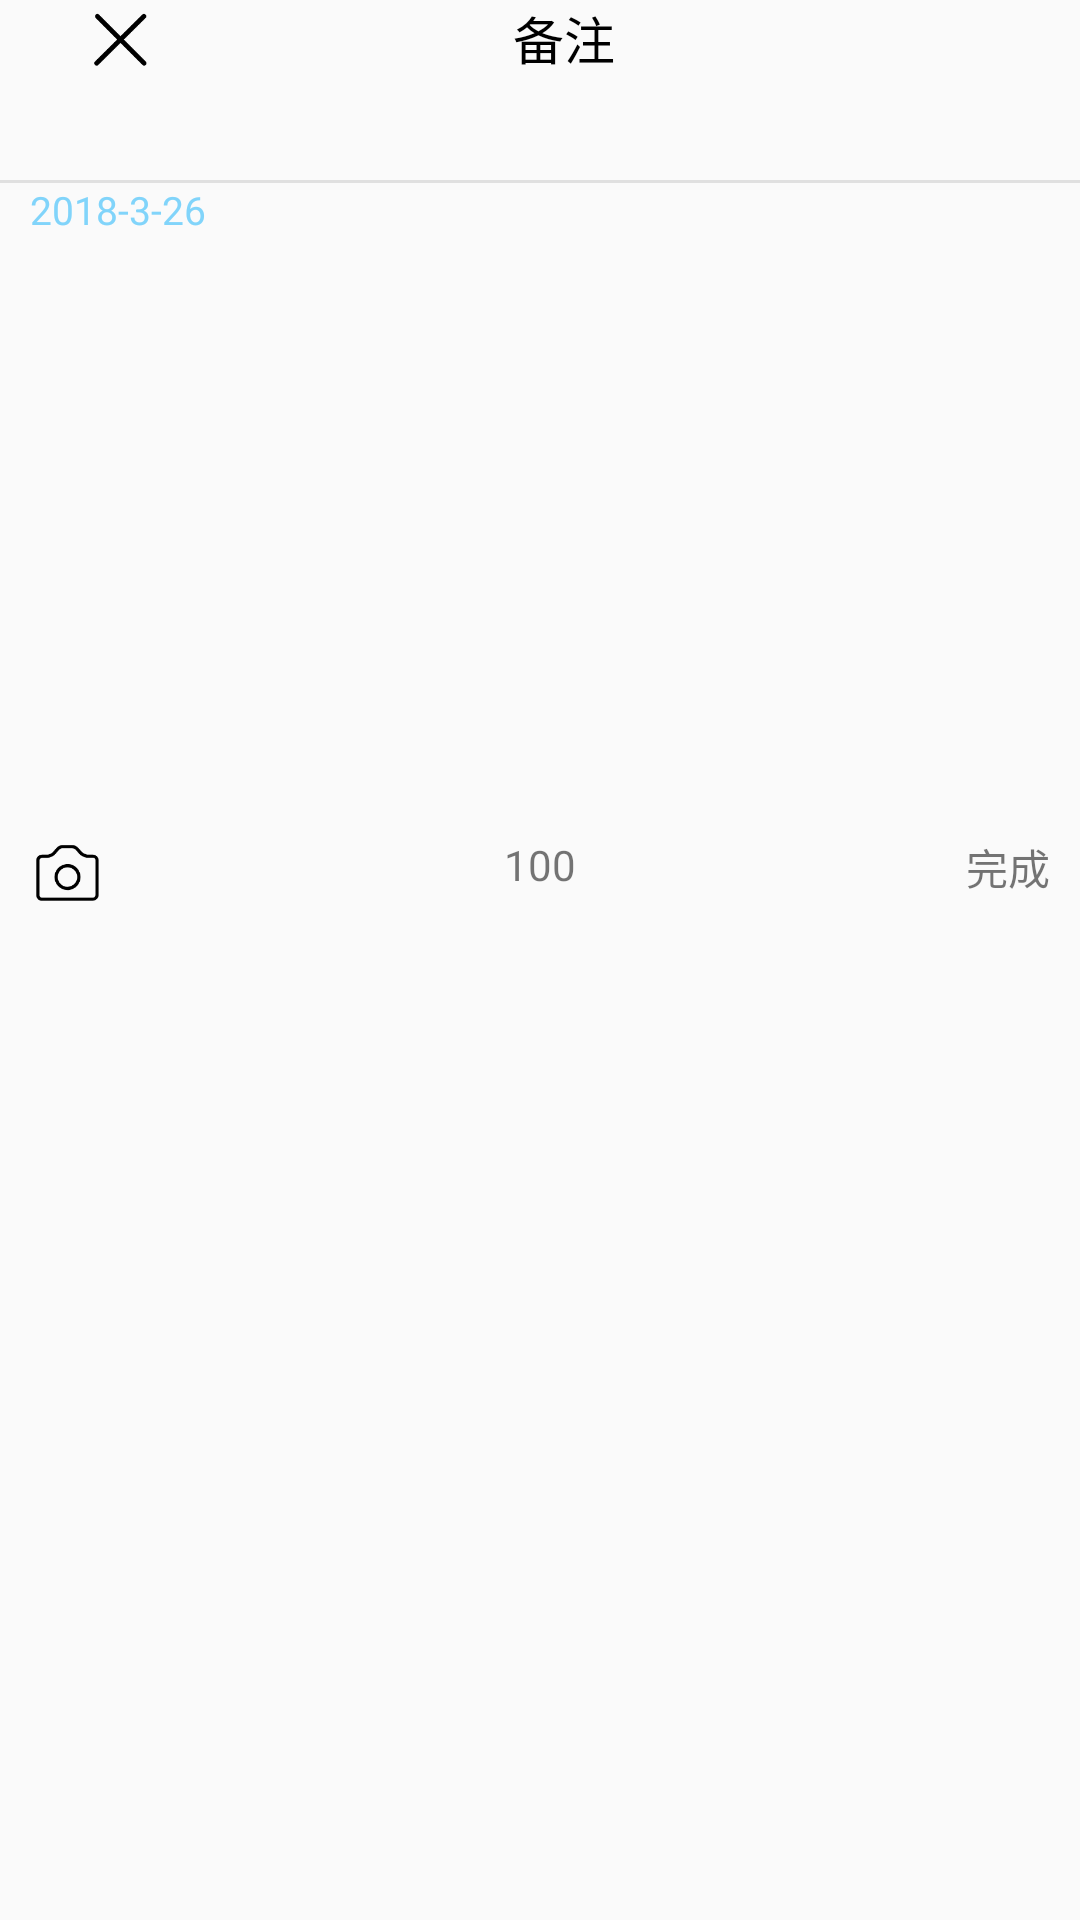

Point at icon controls on the screen. Image size 1080 × 1920, points as (x,y).
camera: (67,873)
xback: (120,39)
